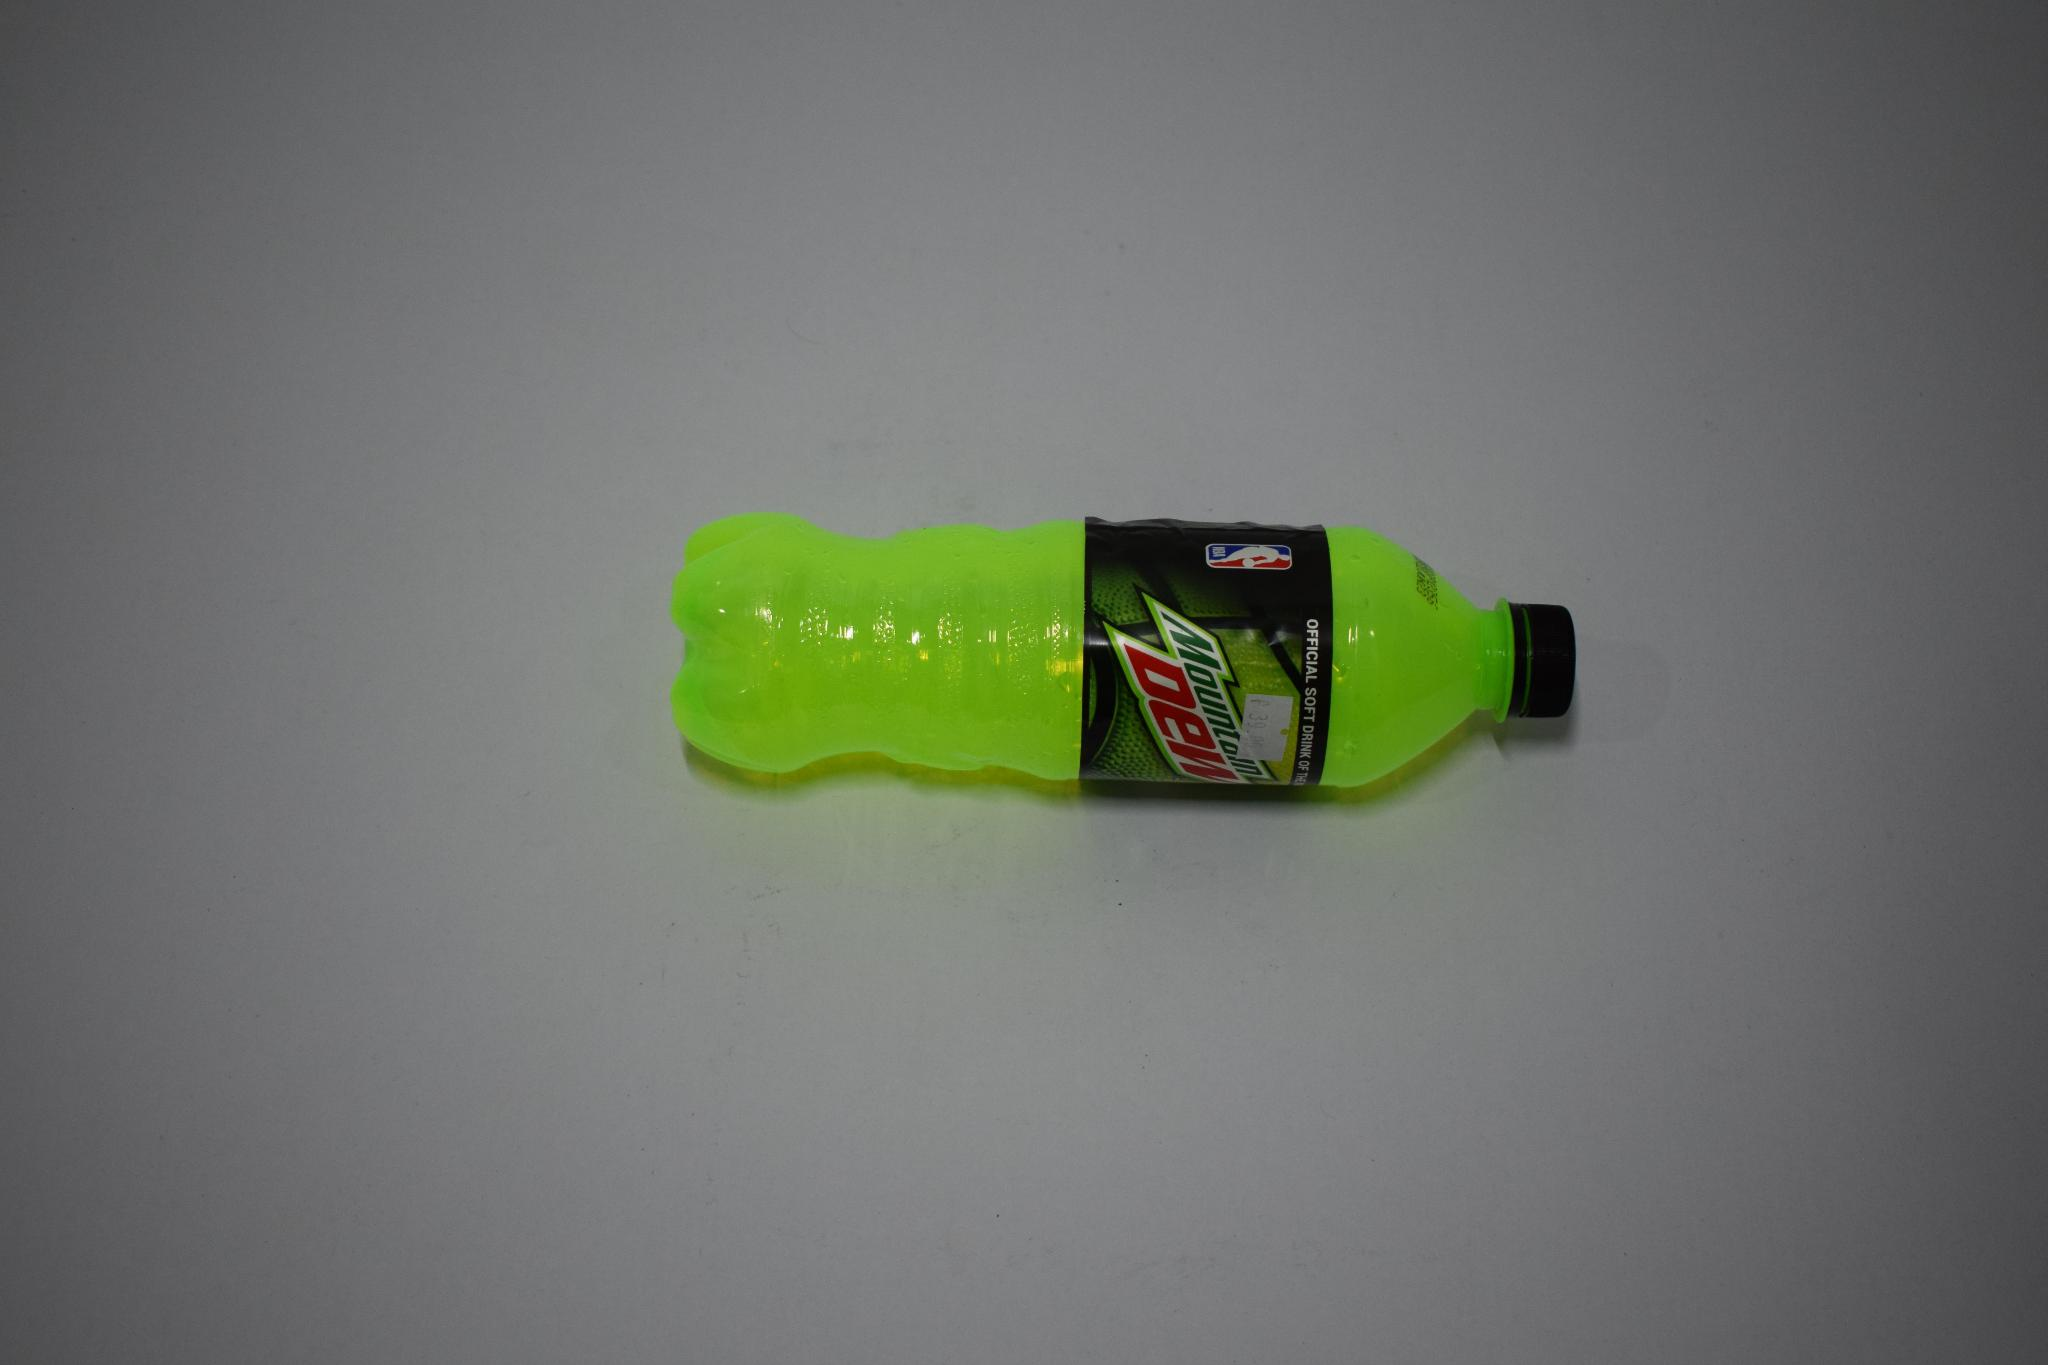bottle: (666, 512, 1584, 802)
